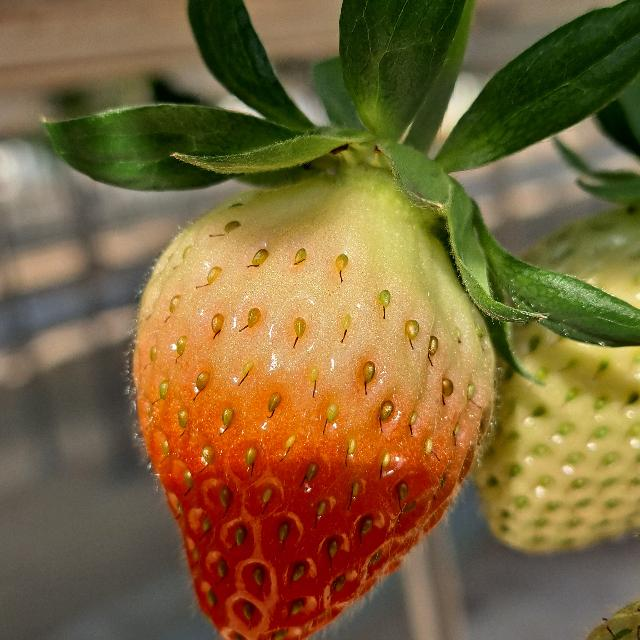Health_75: (132, 176, 494, 640)
